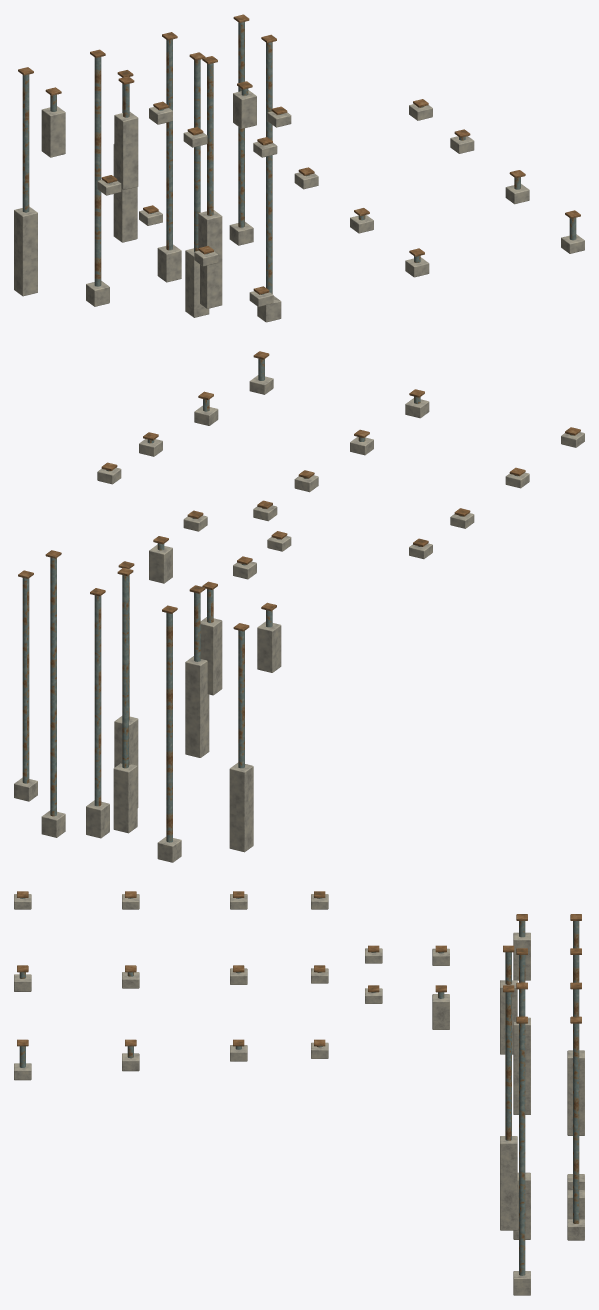
The model's file is Terrain_Fitted_Piles.glb.
3 renders of one model, top to bottom at view 1: azimuth 30°, elevation 25°; view 2: azimuth 150°, elevation 25°; view 3: azimuth 270°, elevation 25°, orthographic. The views are drawn at different scales.
Parts seen in each view (by area): view 1: Terrain_Fitted_Piles; view 2: Terrain_Fitted_Piles; view 3: Terrain_Fitted_Piles.
Boxes of the visible parts, x1,y1,x2,y2 form: Terrain_Fitted_Piles: (14, 14, 584, 322); Terrain_Fitted_Piles: (14, 351, 584, 862); Terrain_Fitted_Piles: (14, 891, 584, 1295).
Bounding box in the file's own units: 27.3 × 22.33 × 42.3.
Materials: 3 (3 with a texture image).
